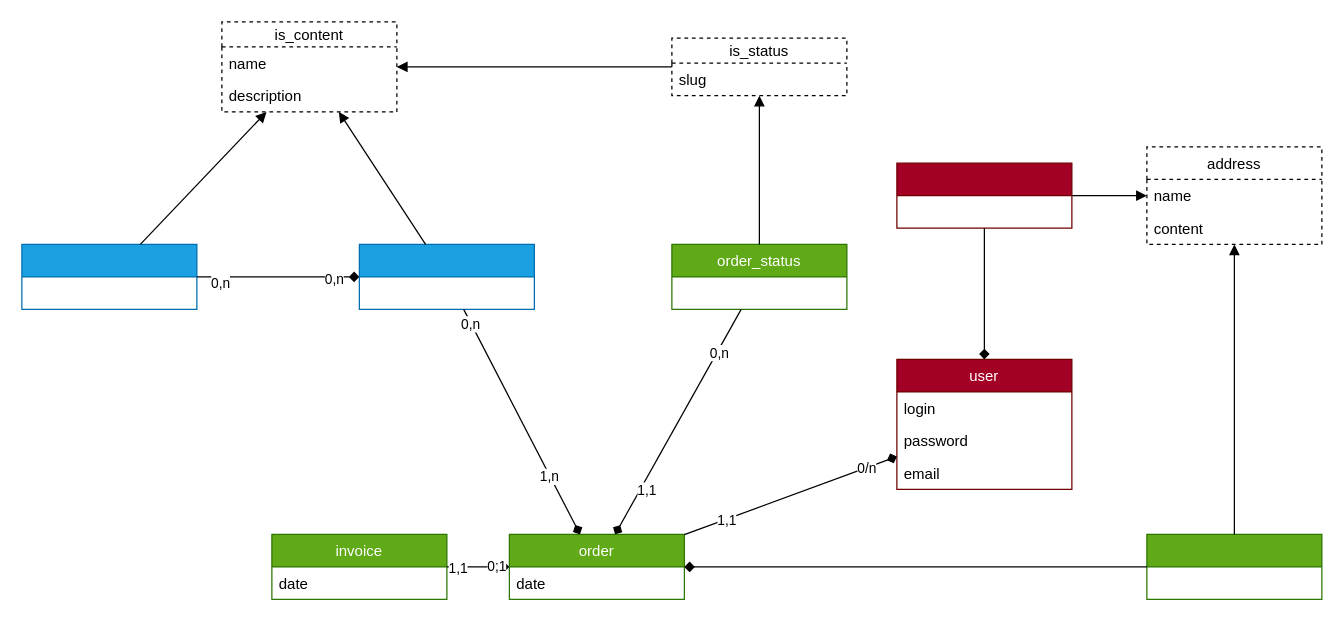
The diagram is 1344 pixels wide and 625 high, and some of its shapes have lost their labels. Here are the shapes that lost their labels. From the top down, the centre of each, then its label:
At (984,195): "user_address".
At (109,276): "category".
At (446,276): "product".
At (1234,566): "delivery_address".
